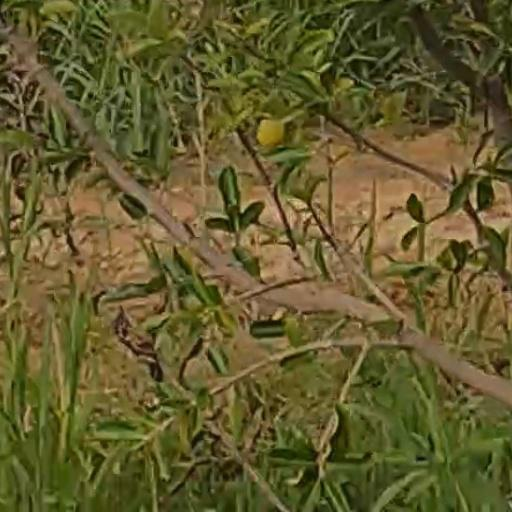acerola_verde: (257, 120, 285, 146)
